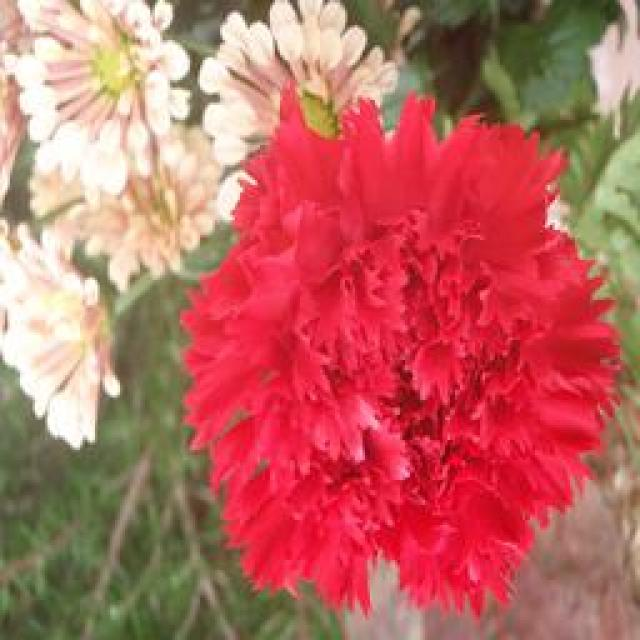carnation: (179, 86, 633, 608)
